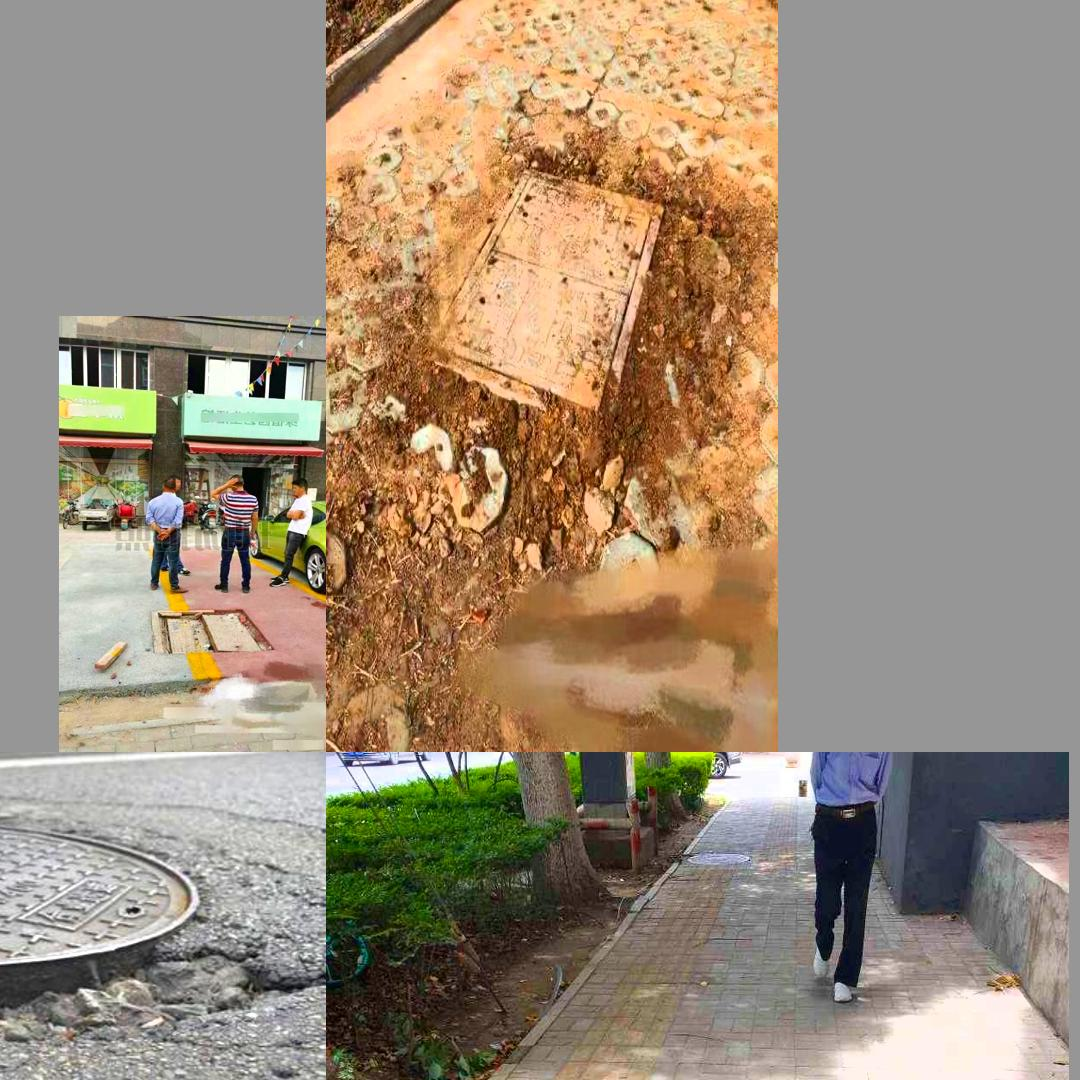circle: (408, 162, 684, 457), (0, 798, 295, 1059), (151, 609, 268, 656)
